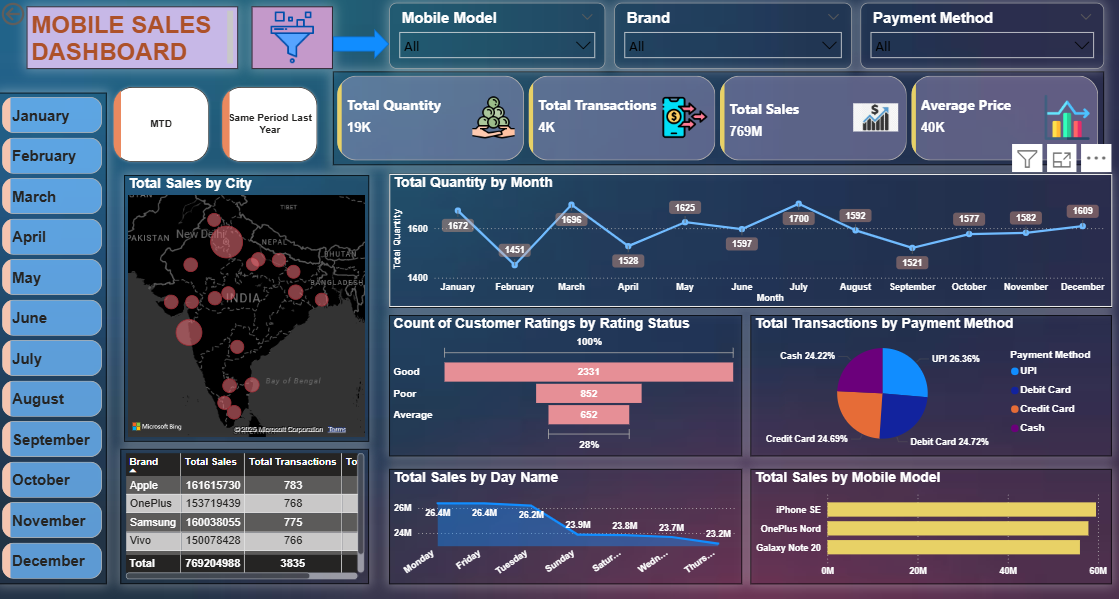

This screenshot's page, from the dashboard's own definition file:
{"tool":"powerbi","page":{"name":"Dashboard","canvas":[1500,800],"ordinal":0},"visuals":[{"type":"textbox","box":[38.3,10,281.7,83.3],"z":0},{"type":"cardVisual","fields":{"Data":["Sales_Data.Total Quantity","Sales_Data.Total Transactions","Sales_Data.Total Sales","Sales_Data.Average Price"]},"box":[446.7,96.7,1028.3,125],"z":1000},{"type":"advancedSlicerVisual","fields":{"Values":["Custim_calendar.Date.Variation.Date Hierarchy.Month"]},"box":[0,125,145,655],"z":2000},{"type":"slicer","fields":{"Values":["Sales_Data.Mobile Model"]},"box":[521.7,5,288.3,88.3],"z":3000},{"type":"slicer","fields":{"Values":["Sales_Data.Payment Method"]},"box":[1150,5,325,88.3],"z":4000},{"type":"slicer","fields":{"Values":["Sales_Data.Brand"]},"box":[821.7,5,316.7,88.3],"z":5000},{"type":"actionButton","box":[0,0,100,40],"z":6000},{"type":"image","box":[338.3,10,108.3,83.3],"z":7000},{"type":"shape","box":[446.7,40,75,40],"z":8000},{"type":"map","fields":{"Category":["Sales_Data.City"],"Size":["Sales_Data.Total Sales"]},"box":[167.8,234.4,326.7,355.6],"z":9000},{"type":"lineChart","fields":{"Y":["Sales_Data.Total Quantity"],"Category":["Custim_calendar.Date.Variation.Date Hierarchy.Month"]},"box":[521.7,233.3,963.3,178.3],"z":10000},{"type":"funnel","fields":{"Category":["Sales_Data.Rating Status"],"Y":["CountNonNull(Sales_Data.Customer Ratings)"]},"box":[521.7,421.7,470,188.3],"z":11000},{"type":"pieChart","fields":{"Y":["Sales_Data.Total Transactions"],"Category":["Sales_Data.Payment Method"]},"box":[1003.3,421.7,481.7,188.3],"z":12000},{"type":"clusteredBarChart","fields":{"Y":["Sales_Data.Total Sales"],"Category":["Sales_Data.Mobile Model"]},"box":[1003.3,626.7,481.7,153.3],"z":13000},{"type":"areaChart","fields":{"Y":["Sales_Data.Total Sales"],"Category":["Custim_calendar.Day Name"]},"box":[522.2,626.7,470,153.3],"z":14000},{"type":"tableEx","fields":{"Values":["Sales_Data.Brand","Sales_Data.Total Sales","Sales_Data.Total Transactions","Sales_Data.Total Quantity"]},"box":[163.3,600,331.1,180],"z":15000},{"type":"pageNavigator","box":[150,113.3,281.7,108.3],"z":16000}]}

Visuals, with their boxes in screenshot pixels (x1, y1, x2, y2), scaled from the page's 1500x800 canvas onto the 1119x599 screenshot:
textbox: 29,7,239,70
cardVisual - Sales_Data.Total Quantity x Sales_Data.Total Transactions: 333,72,1100,166
advancedSlicerVisual - Custim_calendar.Date.Variation.Date Hierarchy.Month: 0,94,108,584
slicer - Sales_Data.Mobile Model: 389,4,604,70
slicer - Sales_Data.Payment Method: 858,4,1100,70
slicer - Sales_Data.Brand: 613,4,849,70
actionButton: 0,0,75,30
image: 252,7,333,70
shape: 333,30,389,60
map - Sales_Data.City x Sales_Data.Total Sales: 125,176,369,442
lineChart - Sales_Data.Total Quantity x Custim_calendar.Date.Variation.Date Hierarchy.Month: 389,175,1108,308
funnel - Sales_Data.Rating Status x CountNonNull(Sales_Data.Customer Ratings): 389,316,740,457
pieChart - Sales_Data.Total Transactions x Sales_Data.Payment Method: 748,316,1108,457
clusteredBarChart - Sales_Data.Total Sales x Sales_Data.Mobile Model: 748,469,1108,584
areaChart - Sales_Data.Total Sales x Custim_calendar.Day Name: 390,469,740,584
tableEx - Sales_Data.Brand x Sales_Data.Total Sales: 122,449,369,584
pageNavigator: 112,85,322,166
